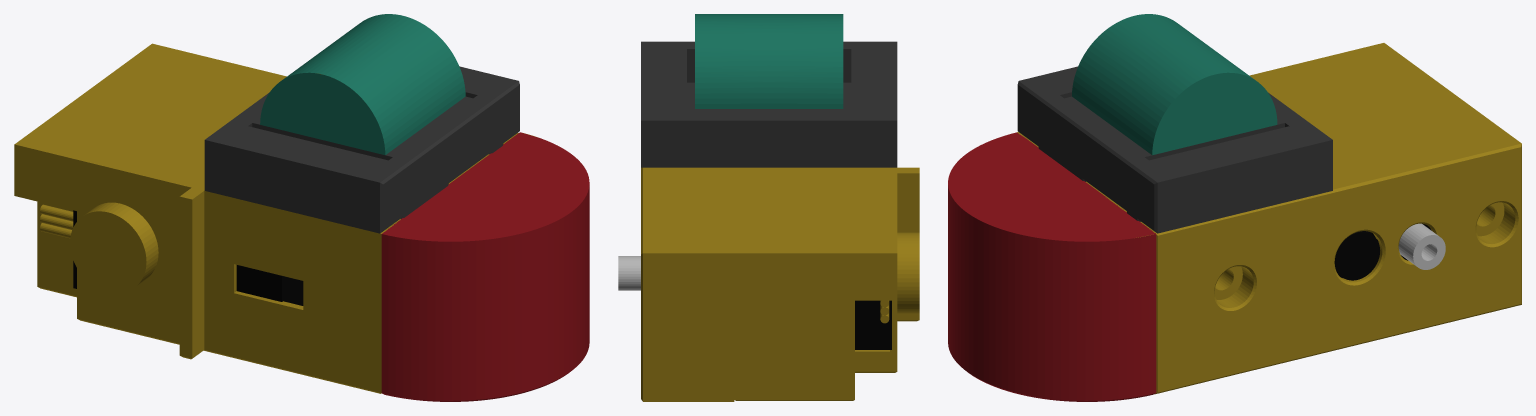
The model's file is finger_link231.dae.
3 renders of one model, left to right at view 1: azimuth 30°, elevation 25°; view 2: azimuth 150°, elevation 25°; view 3: azimuth 270°, elevation 25°, orthographic. The views are drawn at different scales.
Visible parts, largest first — view 1: finger_link231.001; view 2: finger_link231.001; view 3: finger_link231.001.
Boxes of the visible parts, x1,y1,x2,y2 form: finger_link231.001: [14, 14, 589, 401]; finger_link231.001: [618, 14, 919, 401]; finger_link231.001: [948, 14, 1521, 401].
Bounding box in the file's own units: 58.63 × 71.44 × 38.15.
